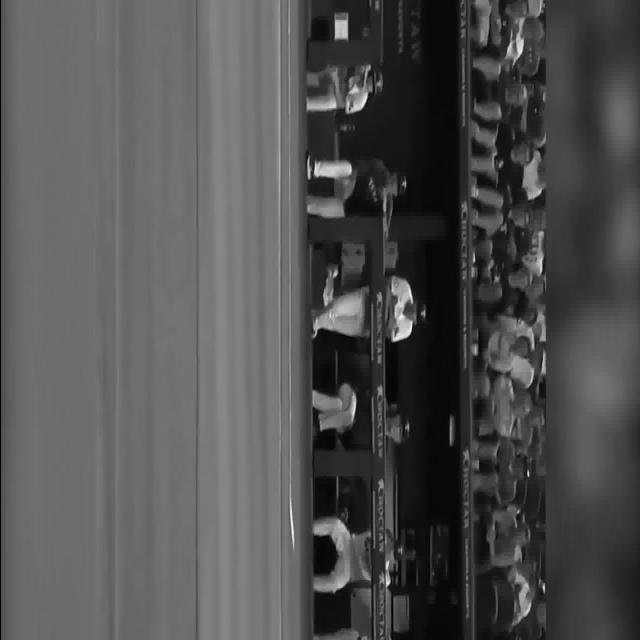shoe: (322, 276, 334, 306), (306, 152, 314, 180), (310, 313, 318, 338), (326, 262, 338, 278), (312, 418, 318, 438)
